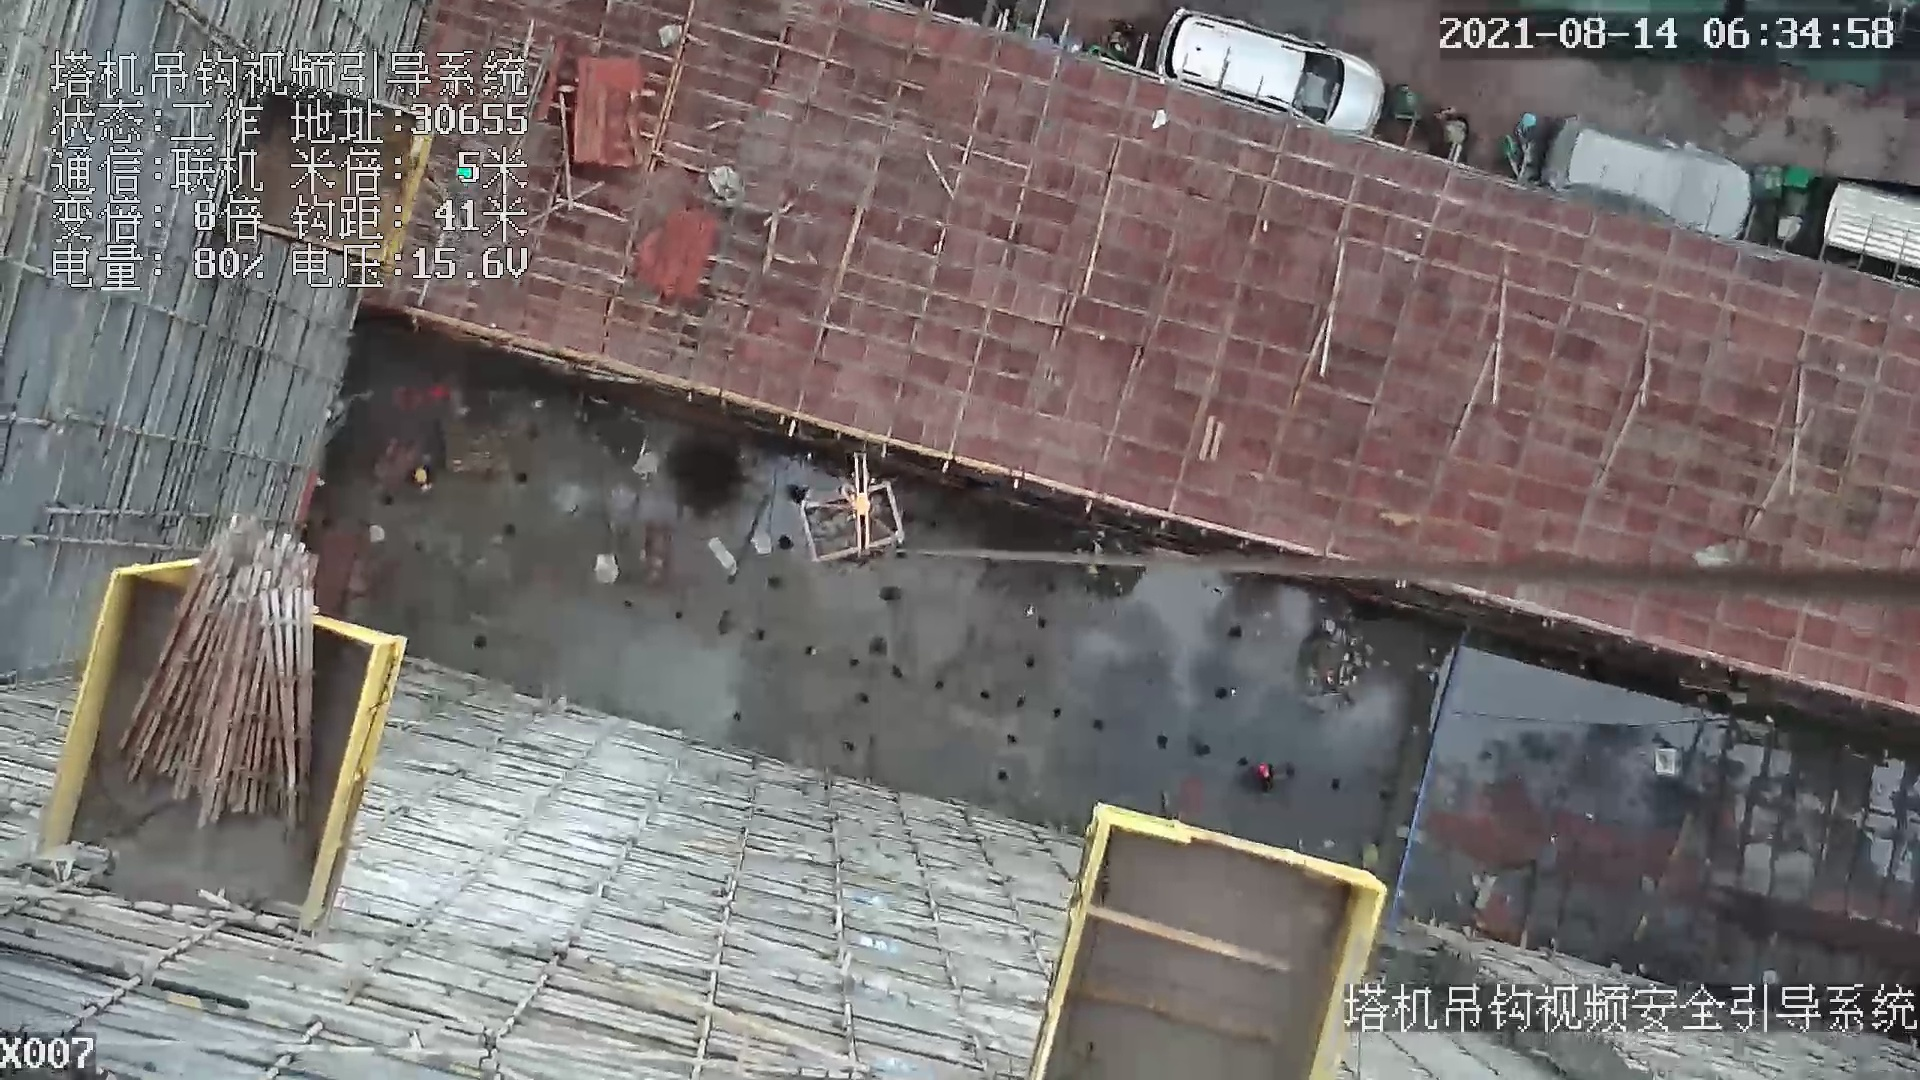hook: (837, 454, 873, 549)
hopper: (791, 481, 919, 578)
scaffold: (123, 501, 324, 839)
